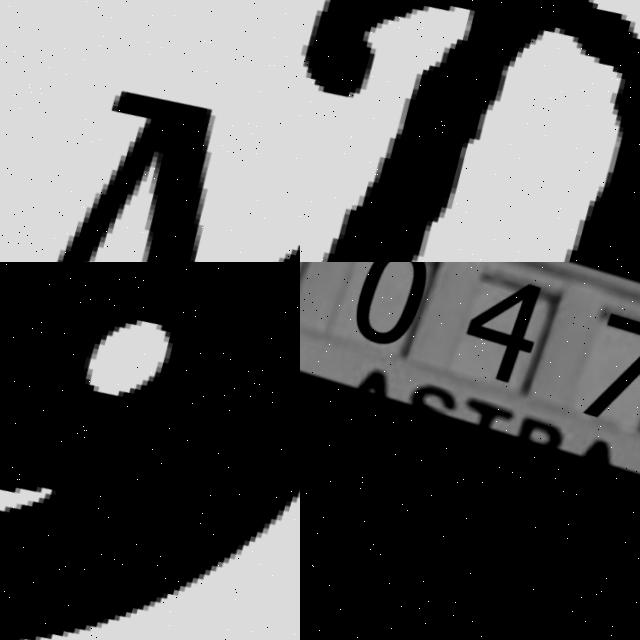0: (320, 262, 450, 369)
4: (433, 262, 562, 405)
7: (551, 301, 640, 453)
9: (0, 262, 300, 640)
D: (300, 0, 640, 262)
M: (0, 19, 300, 262)
